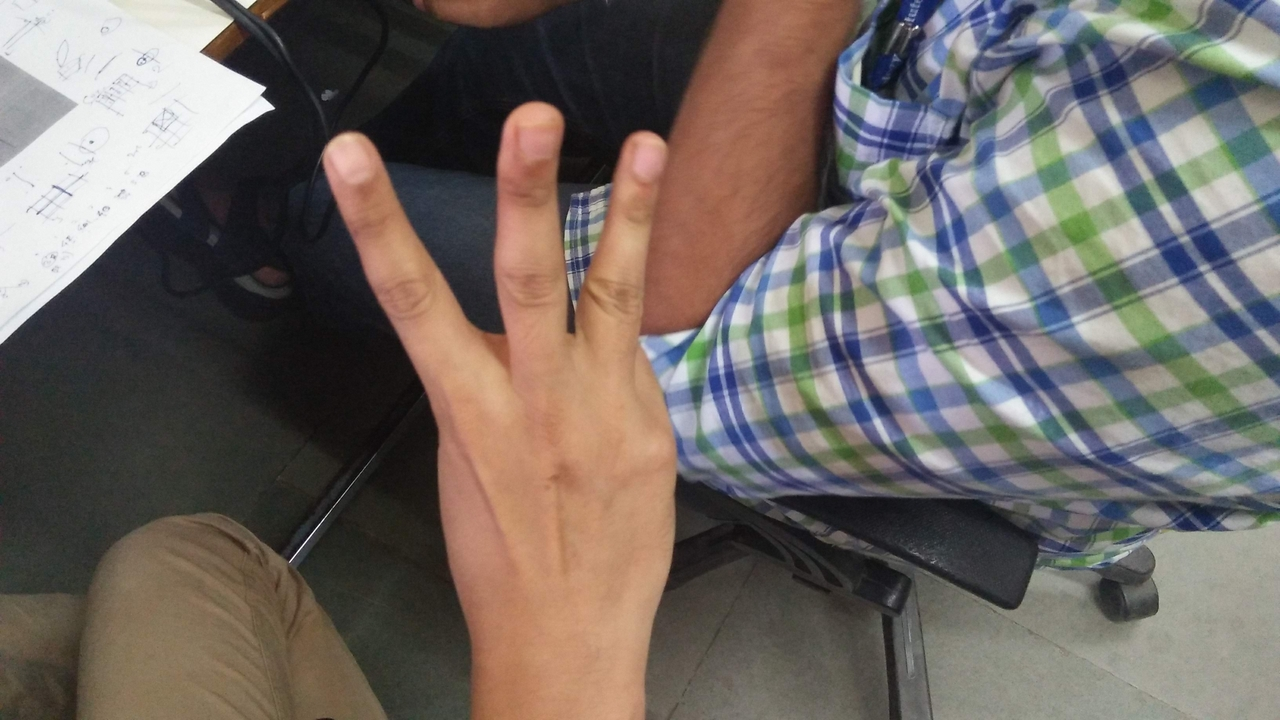fingertip: (308, 130, 390, 196), (494, 105, 570, 171), (608, 127, 678, 193)
